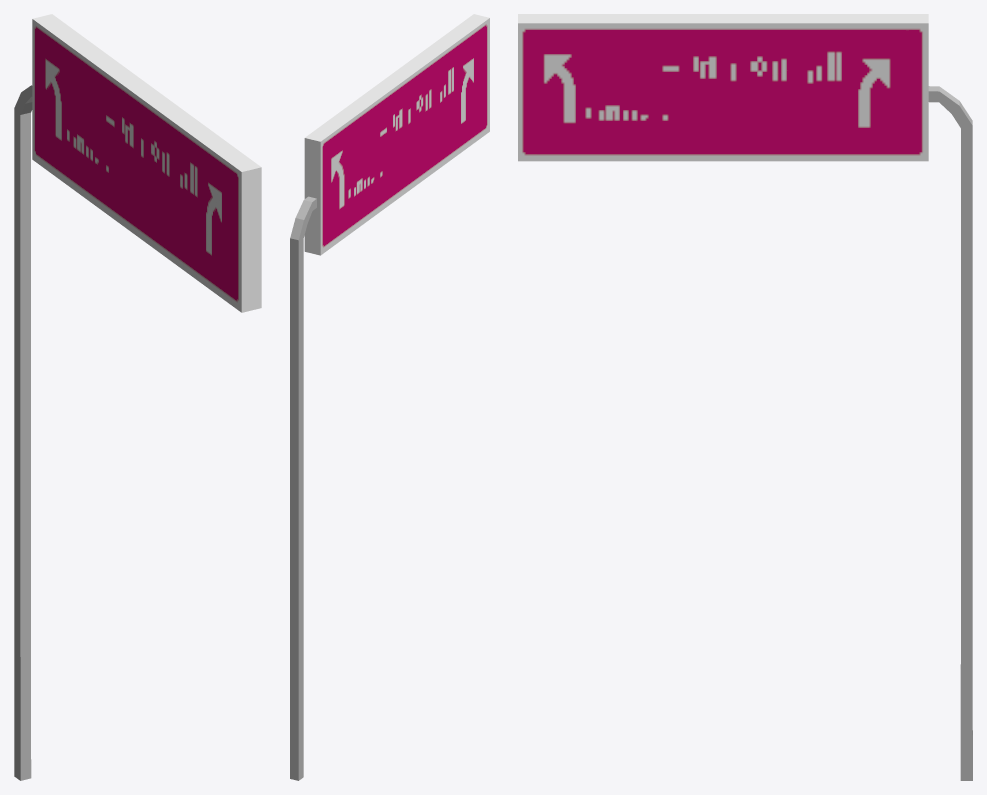
Rendered from billboard.obj.
3 views of the same model, side by side, from view 1: azimuth 30°, elevation 25°; view 2: azimuth 150°, elevation 25°; view 3: azimuth 270°, elevation 25° (orthographic). The views are drawn at different scales.
Parts seen in each view (by area): view 1: Cube, Cube.001; view 2: Cube, Cube.001; view 3: Cube, Cube.001.
Part boxes in pixels (x1,y1,x2,y2): Cube: (32, 14, 261, 312); Cube.001: (14, 85, 32, 780); Cube: (304, 14, 489, 255); Cube.001: (290, 196, 316, 780); Cube: (518, 14, 928, 161); Cube.001: (928, 86, 972, 780).
Bounding box in the file's own units: 0.1486 × 5.55 × 3.01.
2 materials, 1 textured.
